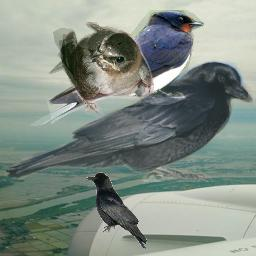Crow: (3, 60, 253, 182), (85, 172, 147, 249)
Swallow: (29, 10, 204, 132), (47, 22, 154, 118)
